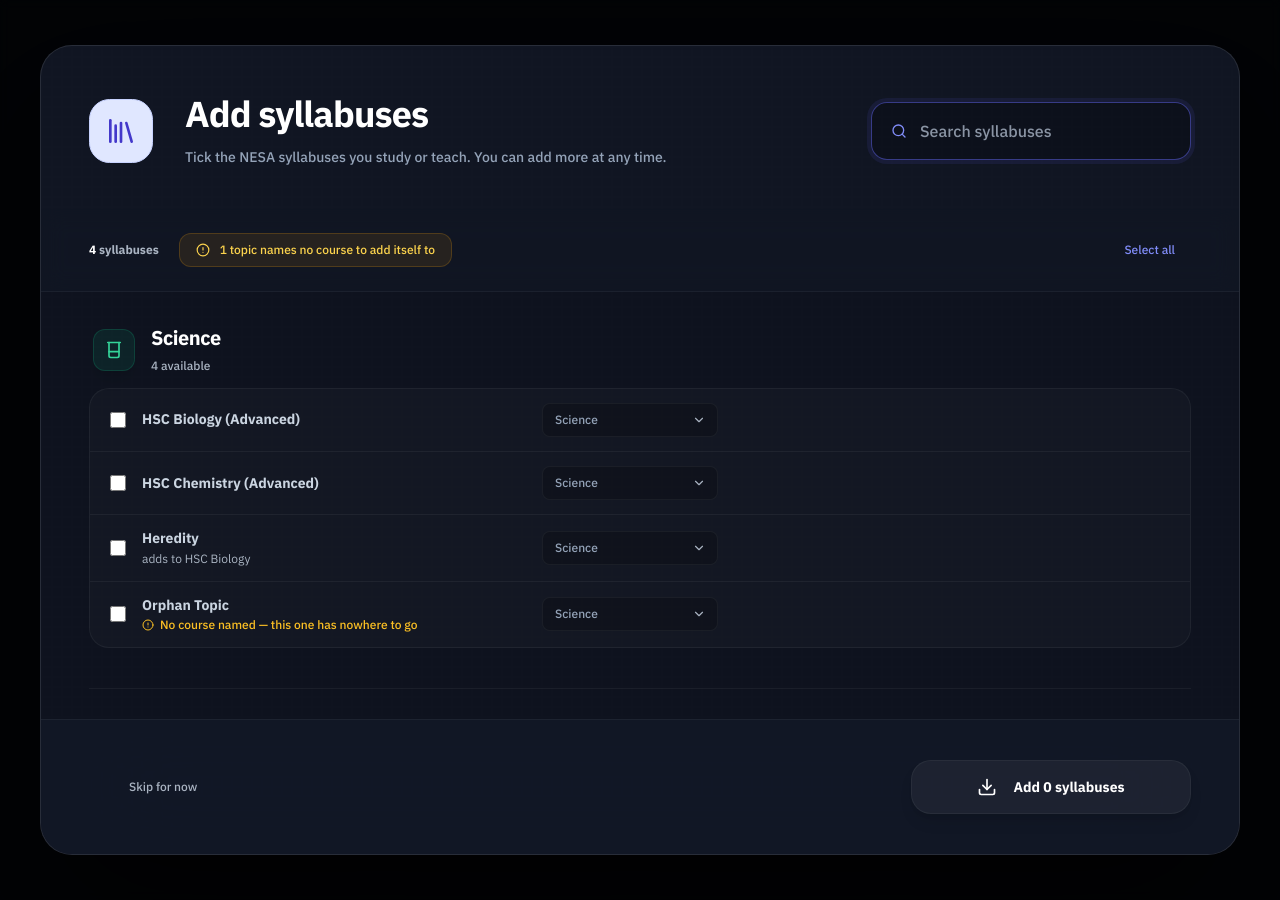
it: picking syllabuses › counts what is ticked in the button, in the reader’s words
This screenshot has width=1280, height=900.
Expected: the button "Add 0 syllabuses" is shown, [911,760,1191,814]
Click the checkbox labelled "HSC Biology (Advanced)" at (118, 420), box [110,412,126,428]
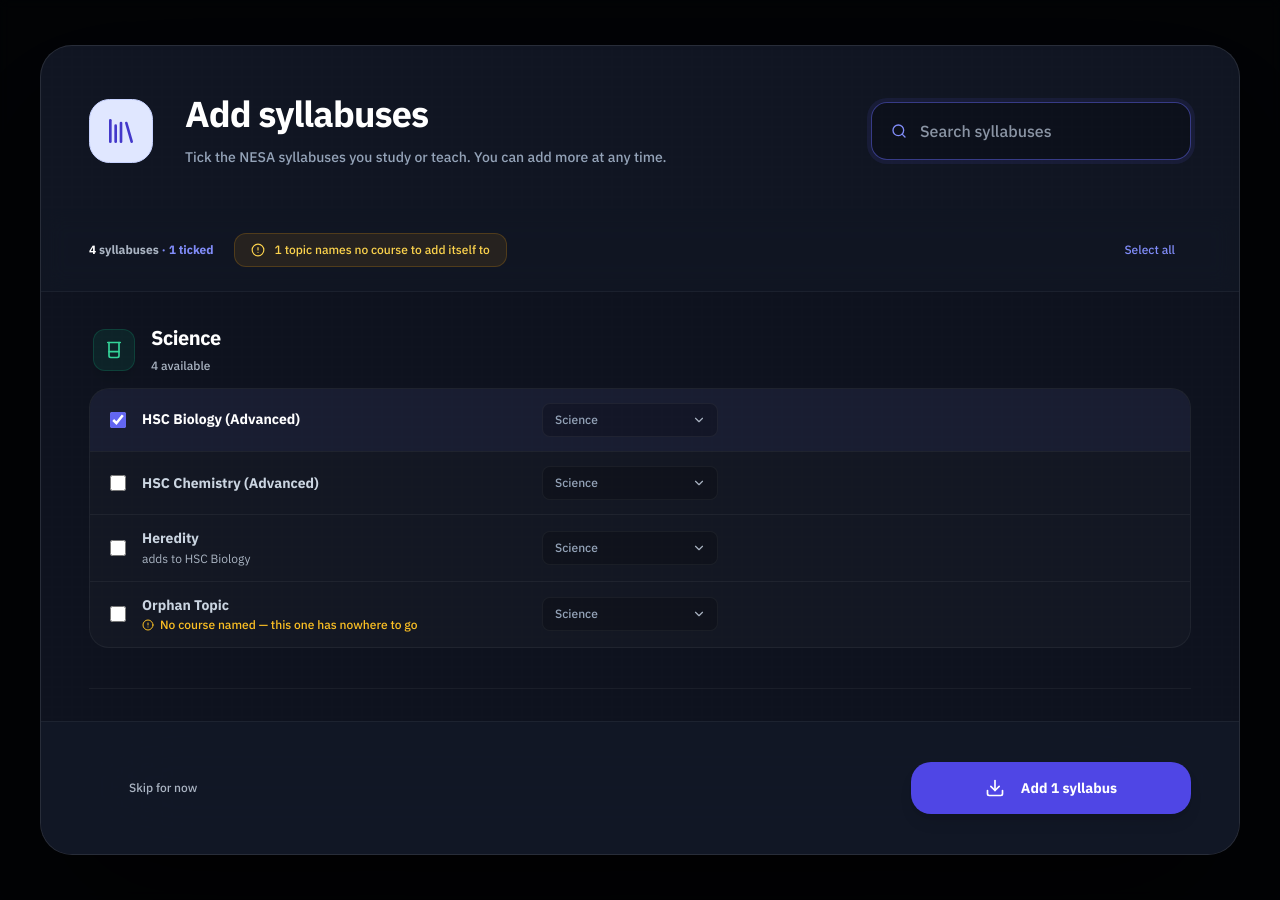
Result: the button "Add 1 syllabus" is shown at [911,762,1191,814]
